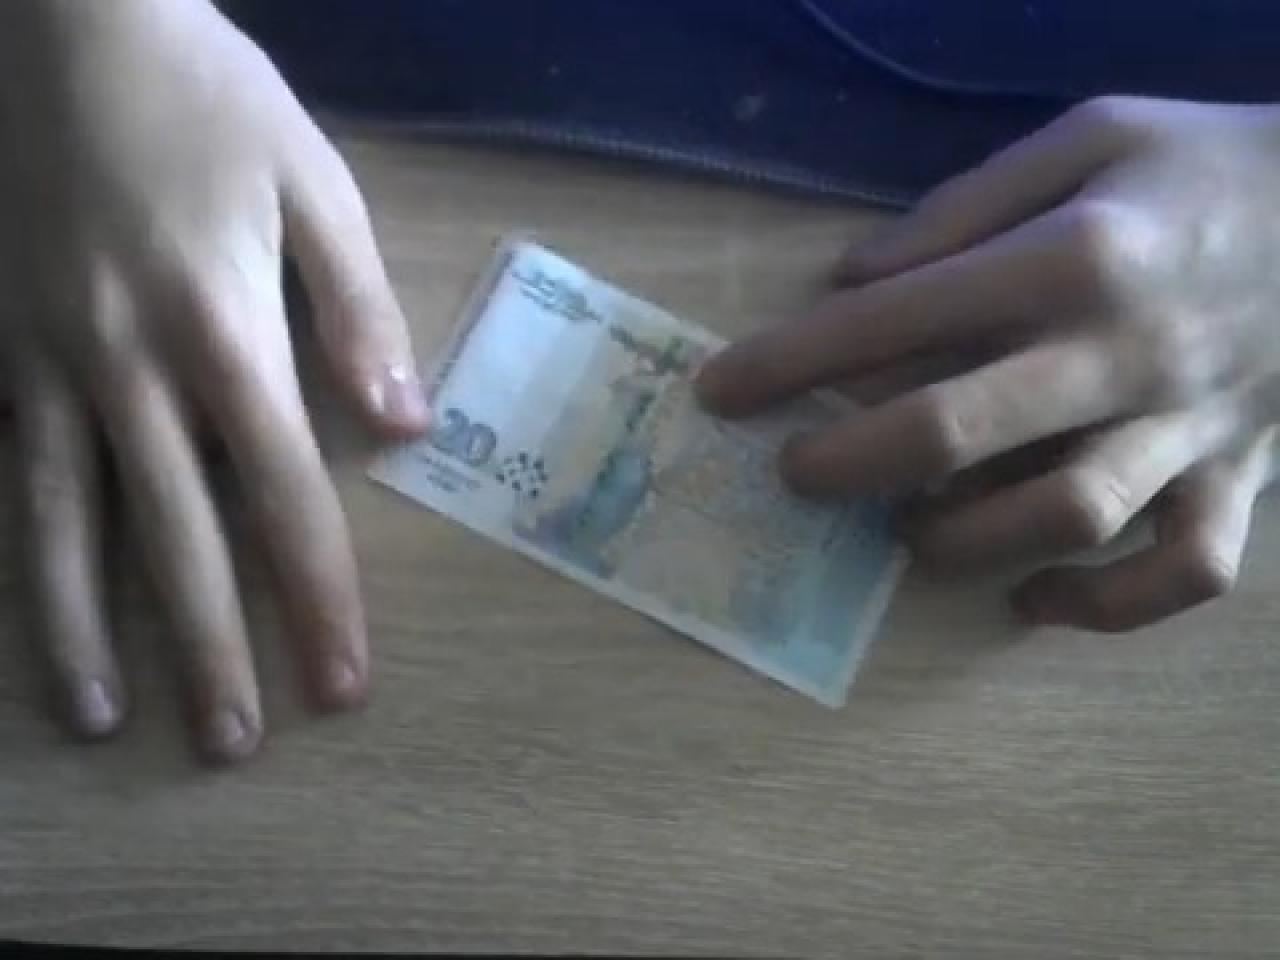20leva: (363, 227, 920, 712)
